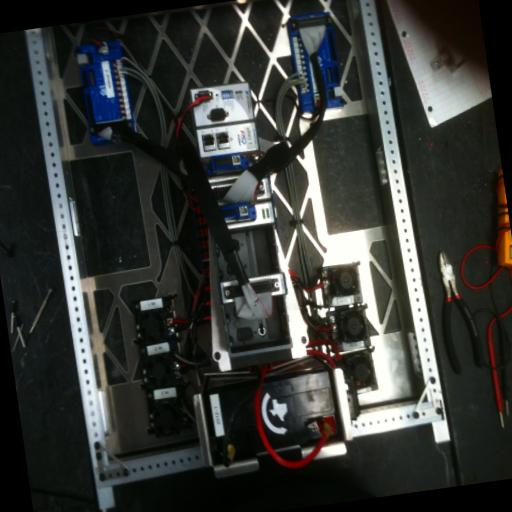robot: (22, 0, 453, 494)
